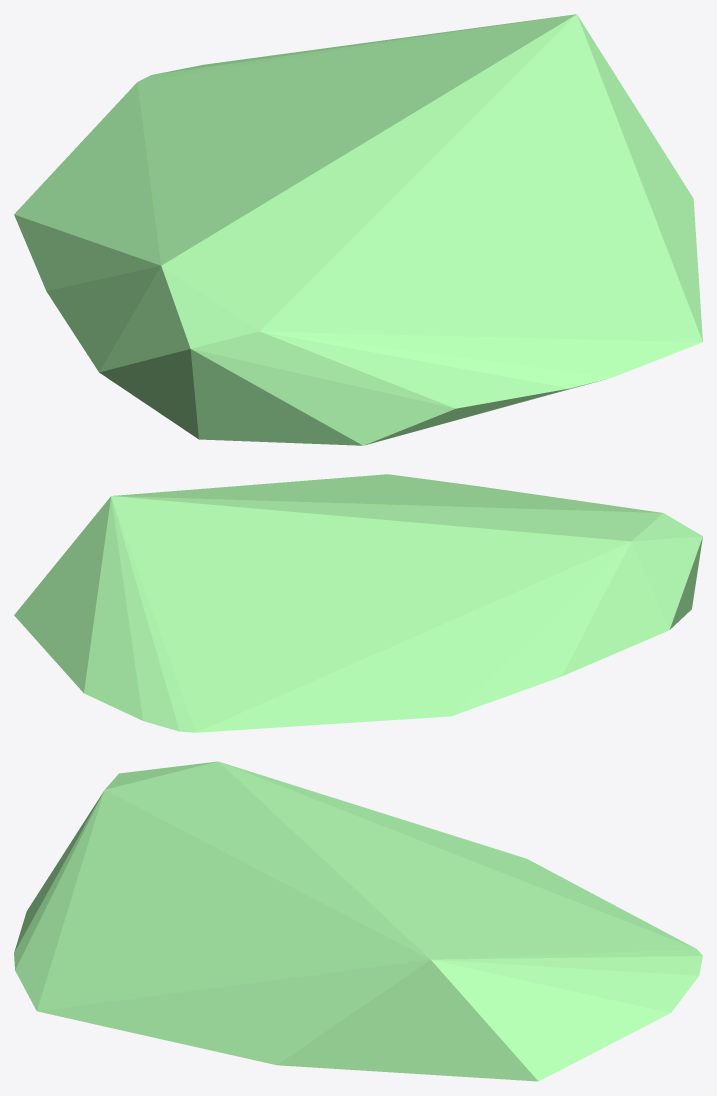
The model's file is linkhou_LR4_R560_link6_respondable_coll_36.dae.
3 renders of one model, top to bottom at view 1: azimuth 30°, elevation 25°; view 2: azimuth 150°, elevation 25°; view 3: azimuth 270°, elevation 25°, orthographic. The views are drawn at different scales.
Parts seen in each view (by area): view 1: Node_0000029808437CA0; view 2: Node_0000029808437CA0; view 3: Node_0000029808437CA0.
Boxes of the visible parts, bbox=[...] form: Node_0000029808437CA0: bbox=[14, 14, 702, 445]; Node_0000029808437CA0: bbox=[14, 474, 702, 732]; Node_0000029808437CA0: bbox=[14, 761, 702, 1081].
Bounding box in the file's own units: 0.0629 × 0.0134 × 0.07.
